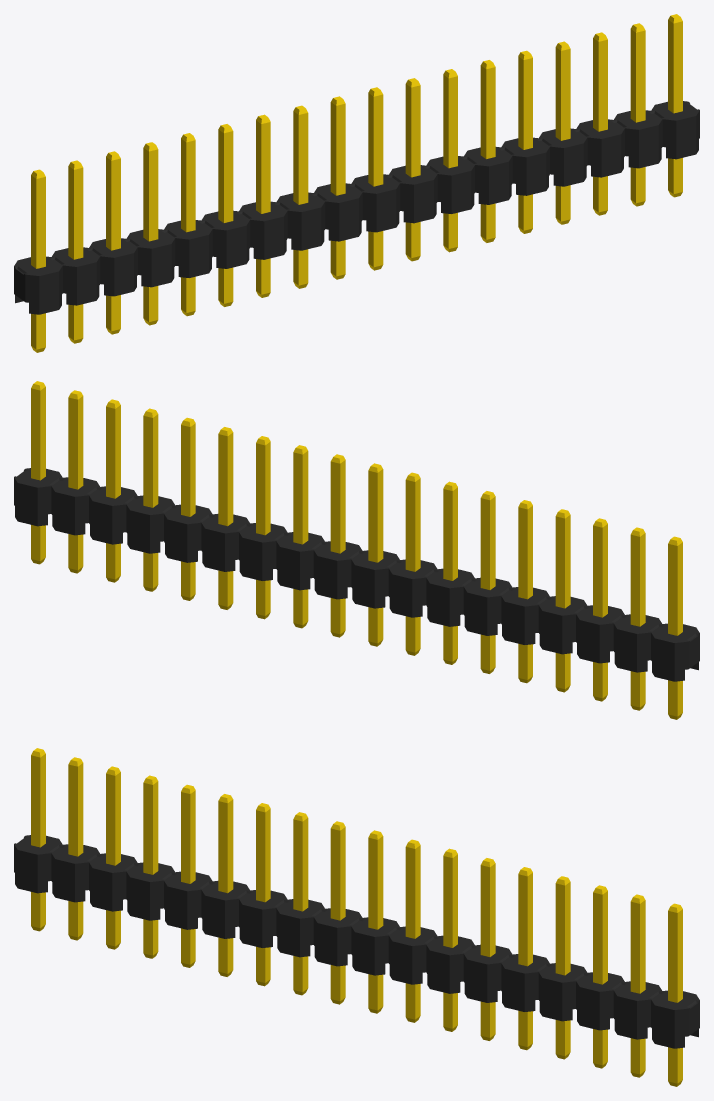
File: PLS18.glb
3 views of the same model, one above another, from view 1: azimuth 30°, elevation 25°; view 2: azimuth 150°, elevation 25°; view 3: azimuth 330°, elevation 25° (orthographic).
Parts seen in each view (by area): view 1: PLS (DS1021 CONNFLY); view 2: PLS (DS1021 CONNFLY); view 3: PLS (DS1021 CONNFLY).
Part boxes in pixels (left/top/right/bottom): PLS (DS1021 CONNFLY): left=14, top=14, right=699, bottom=352; PLS (DS1021 CONNFLY): left=14, top=381, right=699, bottom=719; PLS (DS1021 CONNFLY): left=14, top=748, right=699, bottom=1086.
Bounding box in the file's own units: 0.0457 × 0.0116 × 0.00254.
